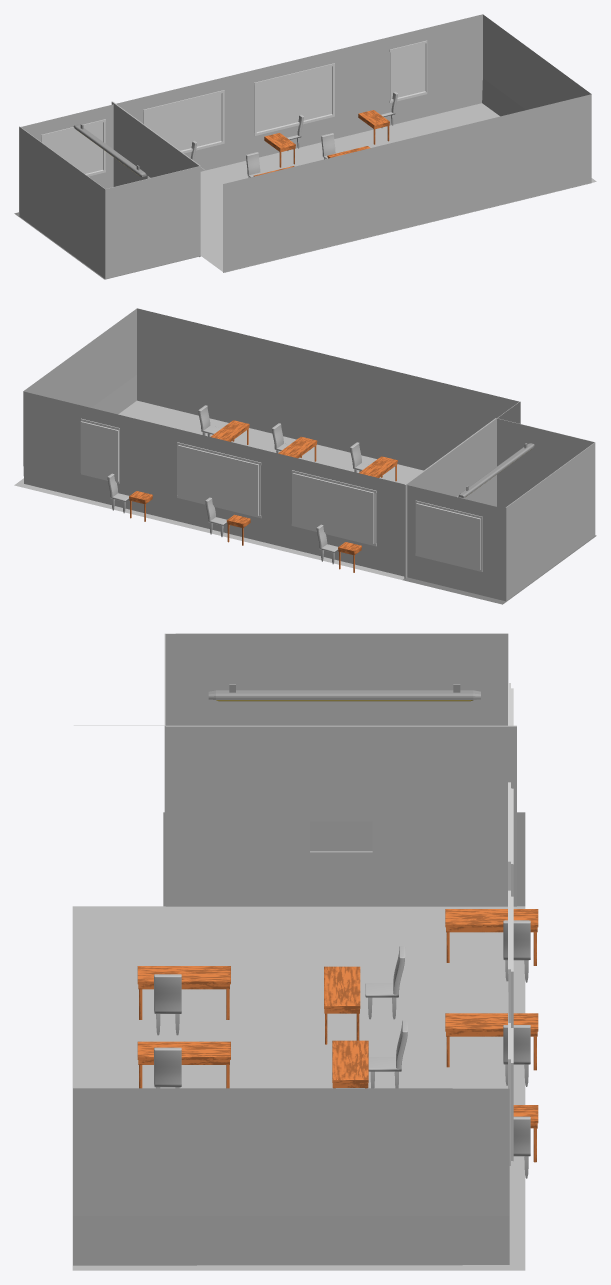
Rendered from kokkiTest.fbx.
The picture shows the model from 3 angles, top to bottom: view 1: azimuth 30°, elevation 25°; view 2: azimuth 150°, elevation 25°; view 3: azimuth 270°, elevation 25°; orthographic projection. The views are drawn at different scales.
Visible parts, largest first — view 1: MainGameMap, Lattia, Tutorial.Light.005, Plane.005, Plane.006; view 2: MainGameMap, Lattia, Tutorial.Light.005, Plane, Plane.002, Plane.001; view 3: MainGameMap, Lattia, Tutorial.Light.005, Plane.006, Plane.007, Plane.001, Plane, Plane.004, Plane.003, Cube, Cube.001, Cube.004 (+4 smaller).
Part boxes in pixels (bbox=[...]): MainGameMap: bbox=[14, 14, 591, 279]; Lattia: bbox=[200, 103, 596, 272]; Tutorial.Light.005: bbox=[73, 124, 146, 176]; Plane.005: bbox=[358, 110, 389, 144]; Plane.006: bbox=[264, 133, 295, 167]; MainGameMap: bbox=[23, 308, 596, 604]; Lattia: bbox=[14, 400, 458, 579]; Tutorial.Light.005: bbox=[459, 443, 534, 497]; Plane: bbox=[278, 436, 317, 461]; Plane.002: bbox=[210, 420, 249, 444]; Plane.001: bbox=[359, 456, 397, 481]; MainGameMap: bbox=[73, 633, 525, 1265]; Lattia: bbox=[72, 906, 525, 1270]; Tutorial.Light.005: bbox=[208, 684, 480, 701]; Plane.006: bbox=[445, 1013, 538, 1070]; Plane.007: bbox=[445, 909, 538, 965]; Plane.001: bbox=[137, 966, 230, 1019]; Plane: bbox=[137, 1041, 230, 1088]; Plane.004: bbox=[324, 966, 360, 1044]; Plane.003: bbox=[332, 1040, 368, 1088]; Cube: bbox=[154, 974, 181, 1035]; Cube.001: bbox=[154, 1047, 181, 1088]; Cube.004: bbox=[503, 920, 530, 982].
Bounding box in the file's own units: 752 × 140 × 323.
